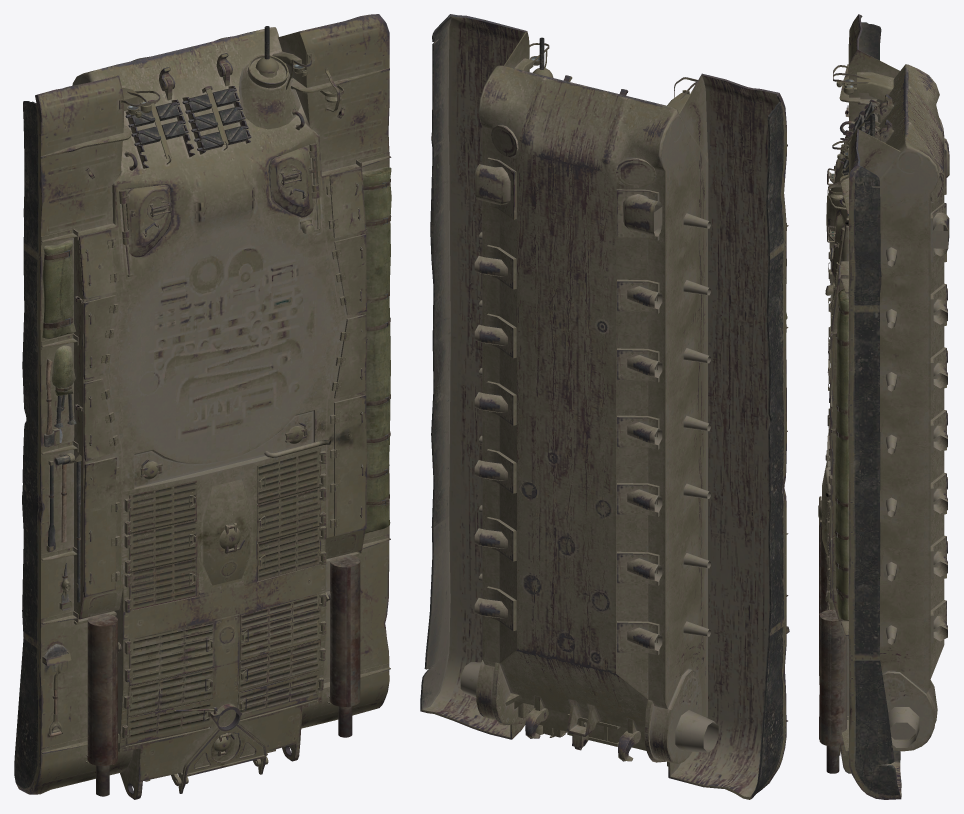
File: Hull.glb
The picture shows the model from 3 angles, left to right: view 1: azimuth 30°, elevation 25°; view 2: azimuth 150°, elevation 25°; view 3: azimuth 270°, elevation 25°; orthographic projection. The views are drawn at different scales.
Visible parts, largest first — view 1: set_0_group_0; view 2: set_0_group_0; view 3: set_0_group_0.
Boxes of the visible parts, box(x1,y1,x2,y2) form: set_0_group_0: box(14, 14, 391, 799); set_0_group_0: box(420, 14, 789, 799); set_0_group_0: box(818, 14, 949, 799).
Size of the model in its own units: 3.84 by 7.58 by 1.39.
Materials: 1 (1 with a texture image).
